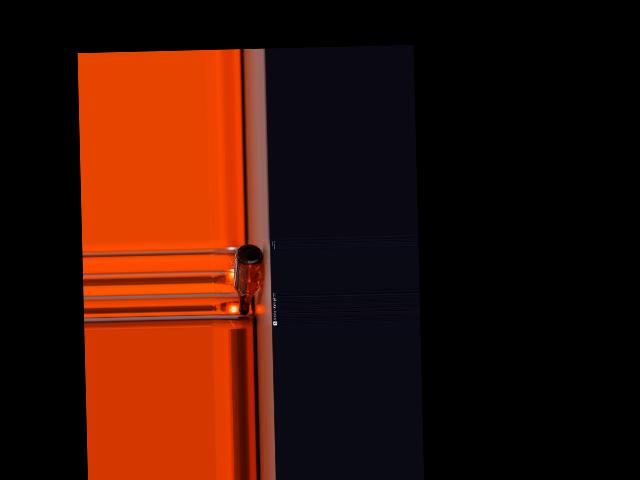beer: (232, 243, 265, 313)
